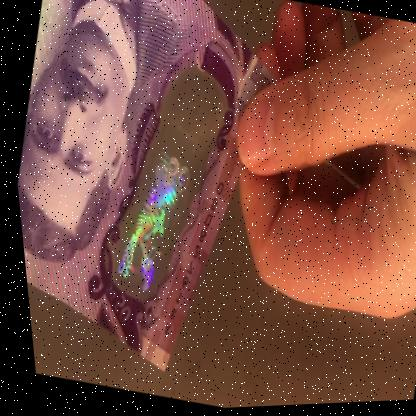50F: (89, 79, 234, 309)
